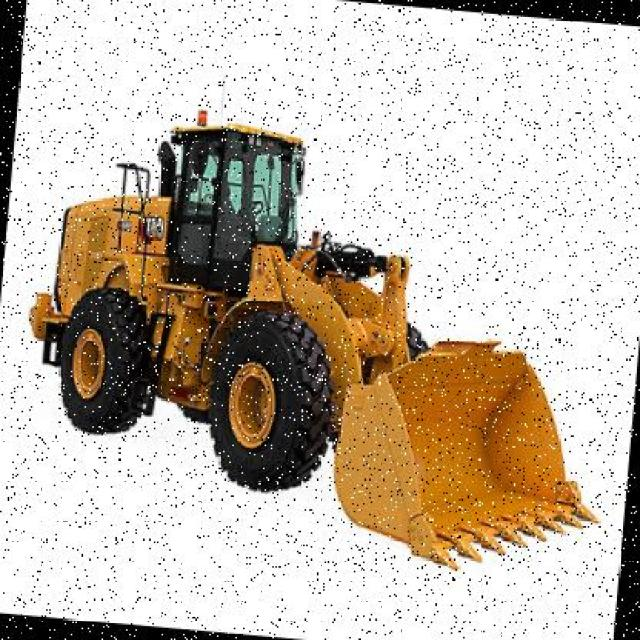buldozerpayloadergrader: (0, 98, 632, 584)
